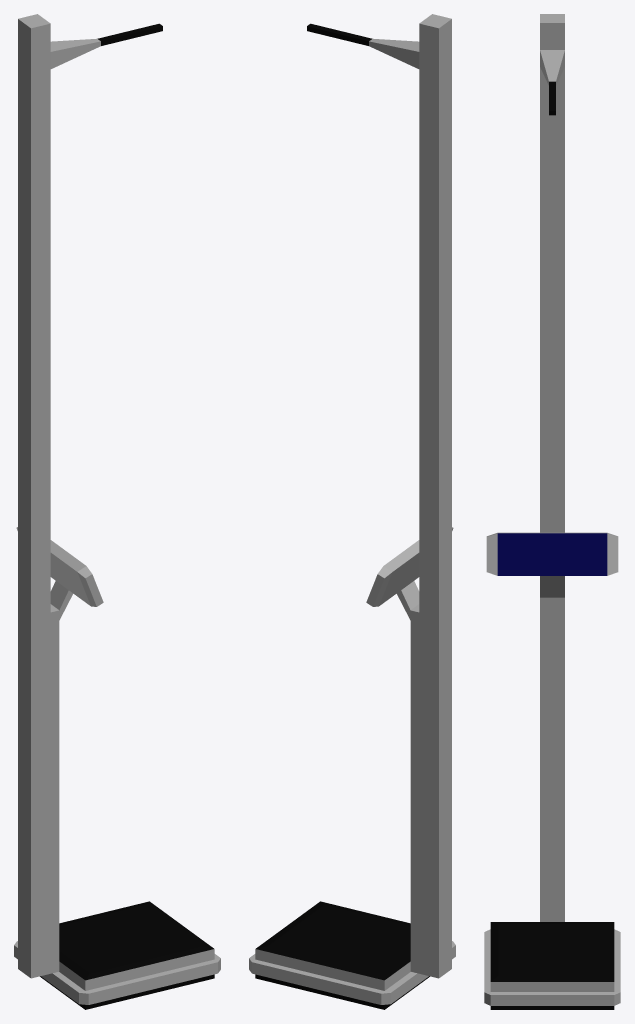
The model's file is WeightAndHeightScale.fbx.
3 renders of one model, left to right at view 1: azimuth 30°, elevation 25°; view 2: azimuth 150°, elevation 25°; view 3: azimuth 270°, elevation 25°, orthographic. The views are drawn at different scales.
Visible parts, largest first — view 1: WeightAndHeightScale; view 2: WeightAndHeightScale; view 3: WeightAndHeightScale.
Boxes of the visible parts, x1,y1,x2,y2 form: WeightAndHeightScale: (14, 14, 220, 1009); WeightAndHeightScale: (249, 14, 455, 1009); WeightAndHeightScale: (484, 14, 620, 1009).
Bounding box in the file's own units: 44.36 × 251 × 33.62.
